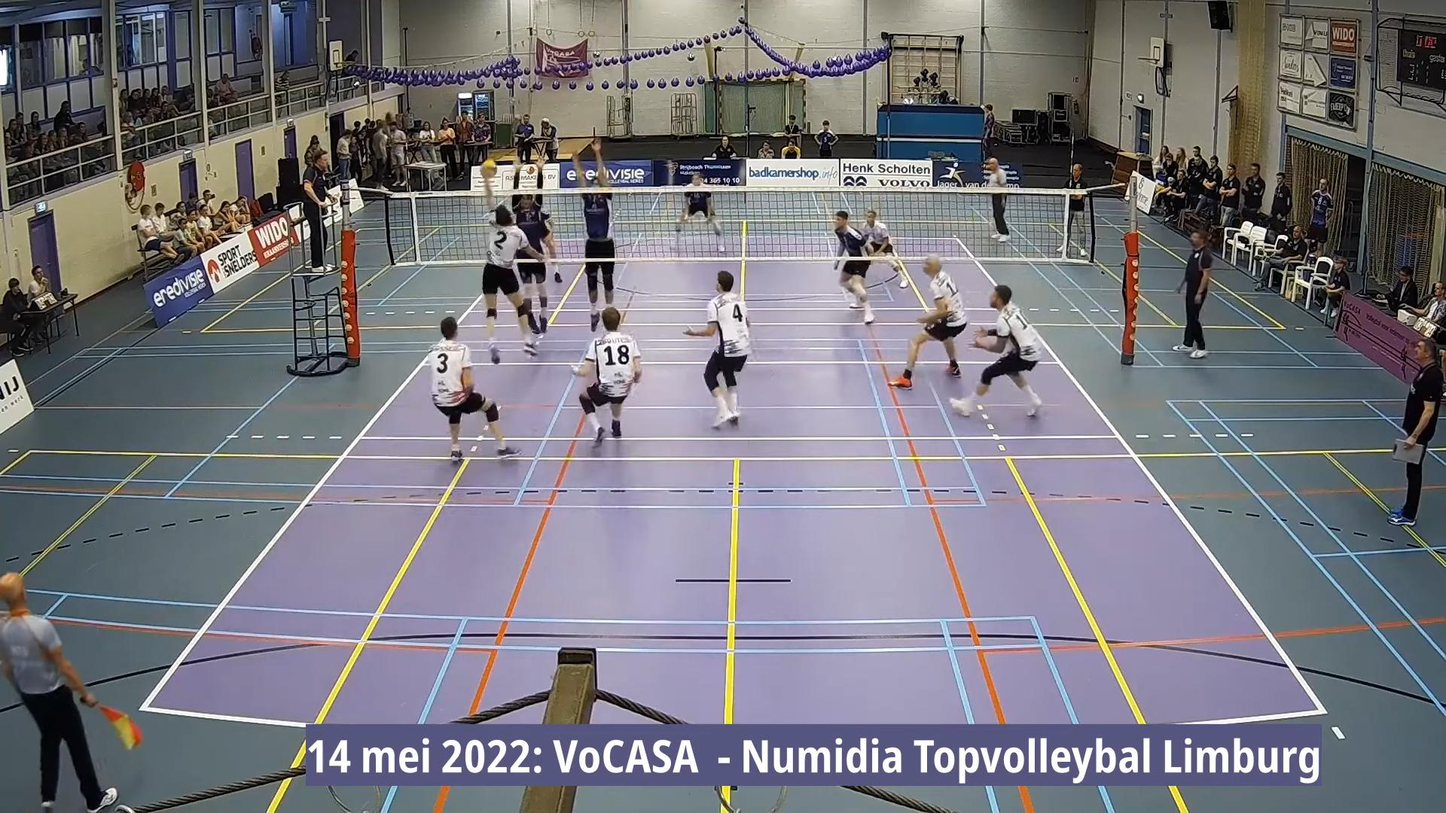Attack: (473, 171, 544, 368)
Block: (569, 142, 626, 329), (505, 147, 554, 337)
Player: (428, 317, 520, 462), (950, 285, 1042, 416), (890, 256, 968, 388), (685, 271, 750, 427), (576, 306, 641, 445), (833, 212, 874, 324), (675, 172, 724, 253), (861, 209, 908, 288)
ball: (477, 160, 501, 175)
